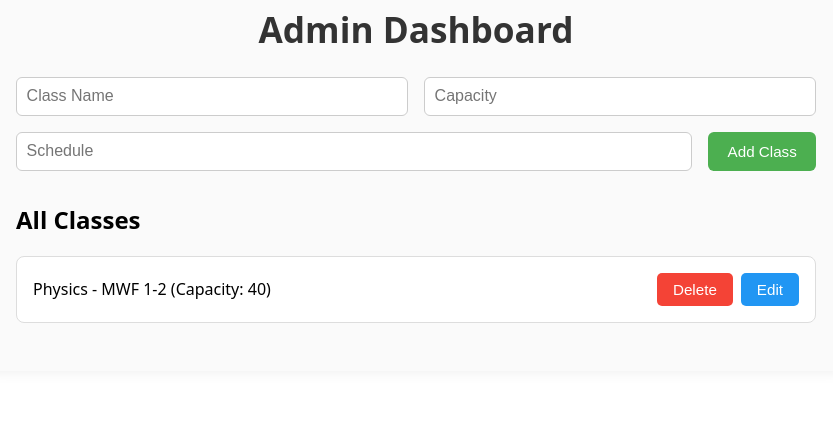
Test: AdminDashboard › edits a class
This screenshot has width=833, height=425.
Click the button "Edit". click: (770, 289)
box: x1=741 y1=273 x2=799 y2=306
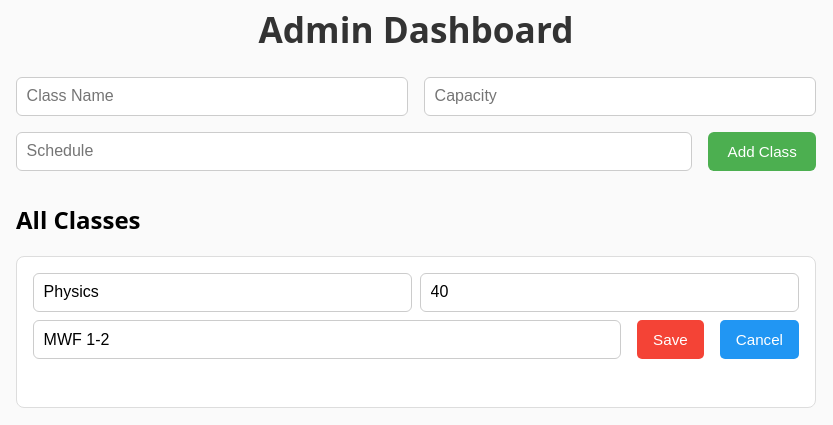
Replace the text in the 1st field showing "Physics" with "Advanced Physics". click: (222, 292)
box: x1=33 y1=273 x2=412 y2=312
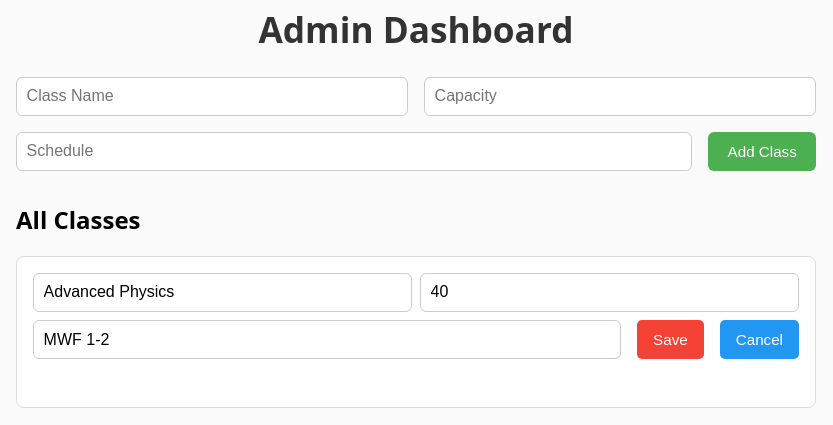
Replace the text in the number field showing "40" with "45". click: (610, 292)
box: x1=420 y1=273 x2=799 y2=312
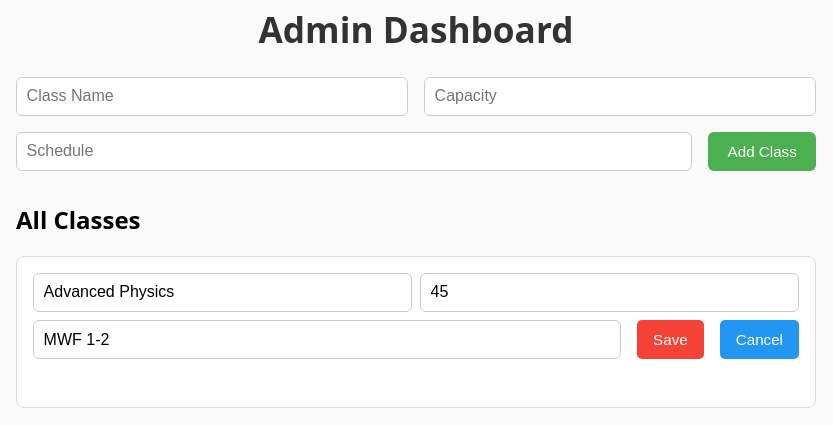
Click the button "Save". click: (670, 340)
box: x1=637 y1=320 x2=704 y2=359
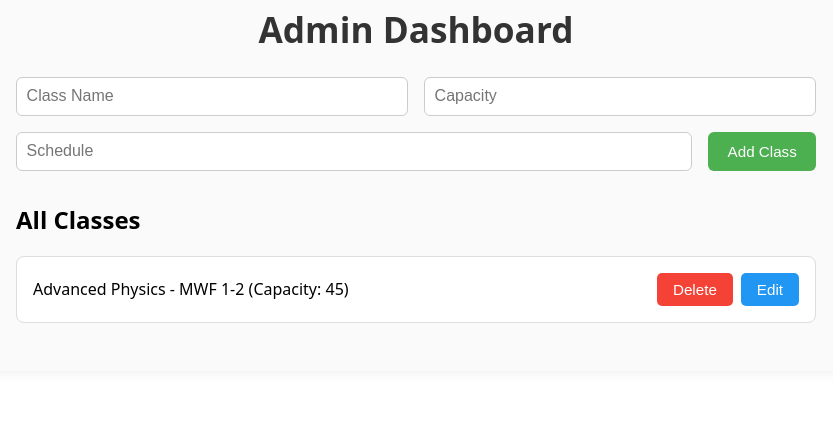
Now the list item "Advanced Physics - MWF 1-2 (Capacity: 45) Delete Edit" is shown, box x1=16 y1=256 x2=816 y2=323
